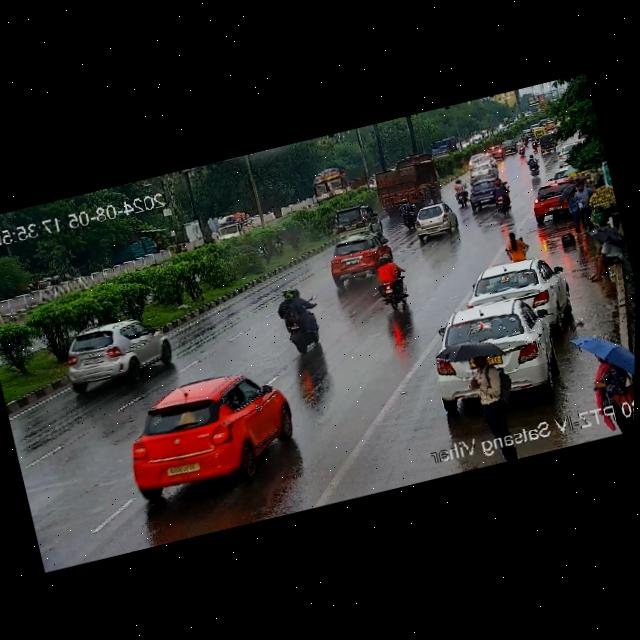car: (111, 363, 303, 506), (420, 286, 574, 417), (53, 310, 174, 395), (459, 251, 569, 328), (319, 230, 399, 287), (326, 200, 383, 243), (413, 202, 459, 241), (524, 181, 564, 222), (466, 175, 500, 210), (463, 158, 500, 183), (532, 130, 560, 157), (486, 145, 504, 161)
motorcycle: (267, 281, 328, 359), (369, 251, 418, 311), (394, 197, 418, 229), (451, 178, 471, 206), (524, 152, 543, 178)
person: (454, 345, 518, 435), (578, 343, 635, 422), (576, 232, 628, 283), (562, 180, 599, 234), (500, 227, 531, 263)
truck: (360, 157, 447, 221), (308, 158, 369, 202), (210, 212, 254, 243), (427, 135, 460, 160)
